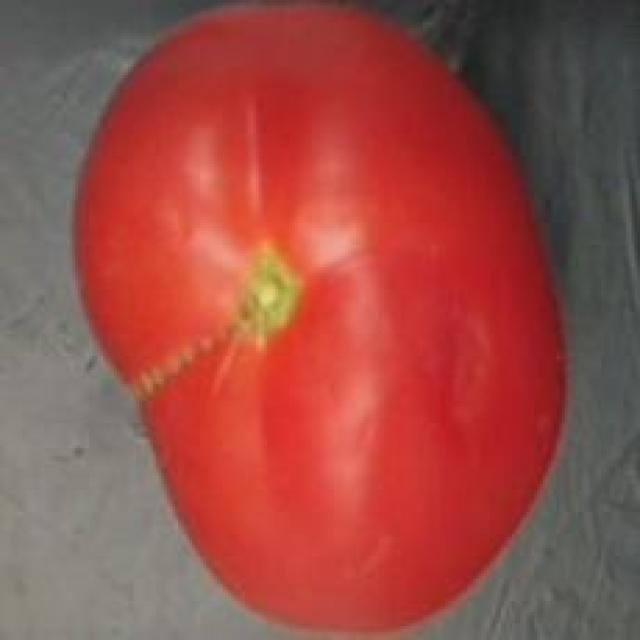overripe tomato: (53, 0, 576, 637)
